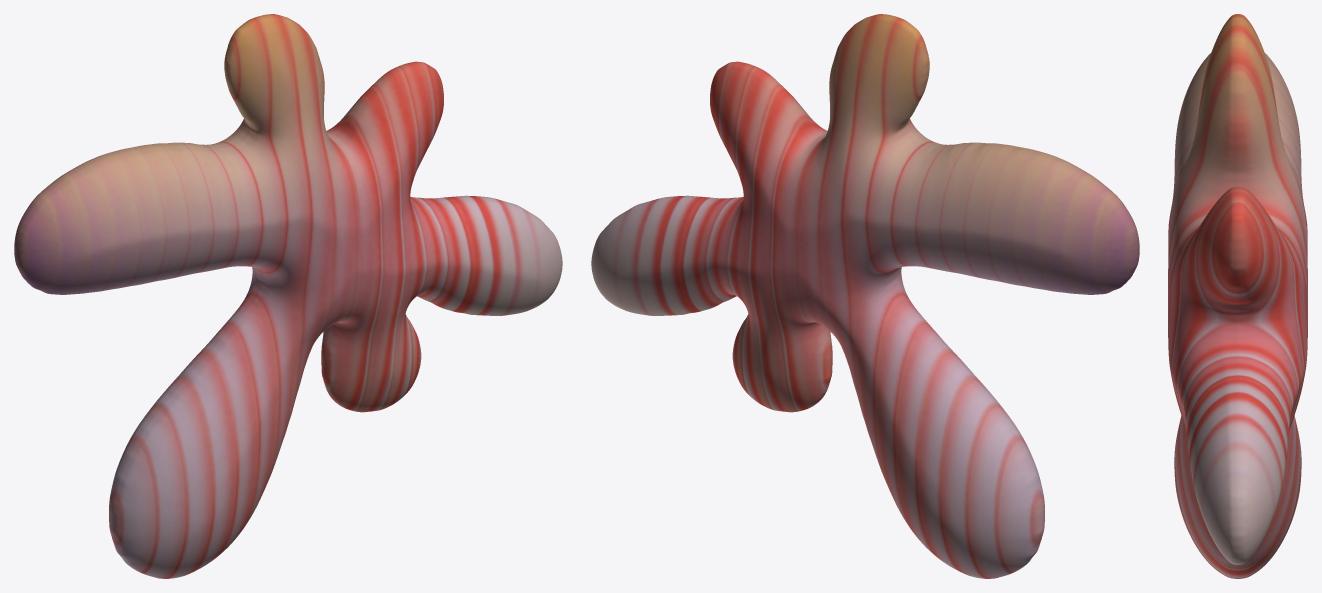
File: star.glb
3 views of the same model, side by side, from view 1: azimuth 30°, elevation 25°; view 2: azimuth 150°, elevation 25°; view 3: azimuth 270°, elevation 25° (orthographic). The views are drawn at different scales.
Visible parts, largest first — view 1: Geometry; view 2: Geometry; view 3: Geometry.
Part boxes in pixels (bbox=[...]): Geometry: bbox=[14, 14, 562, 578]; Geometry: bbox=[591, 14, 1139, 578]; Geometry: bbox=[1168, 14, 1307, 578].
Bounding box in the file's own units: 1.06 × 1 × 0.211.
Materials: 1 (1 with a texture image).
